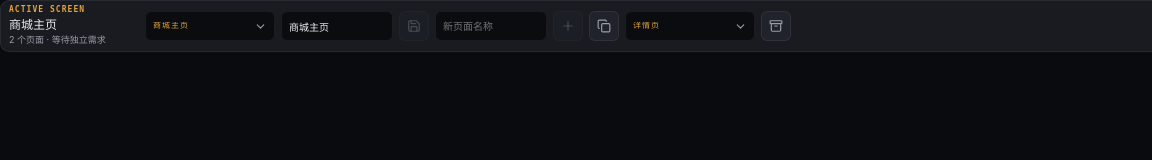
it: ScreenManager（Screen 隔离） › 失败路径：页面操作失败时在自己的错误槽展示，不影响全局横幅
Type "详情页" into the field with placeholder "新页面名称" at point(491, 26), box [435,11,547,41]
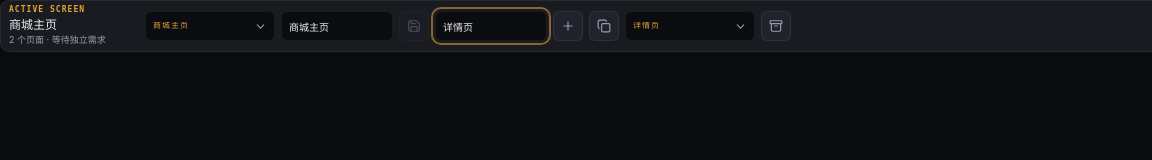
Click the button with test id "screen-manager-create" at point(568, 26), box [553,11,583,41]
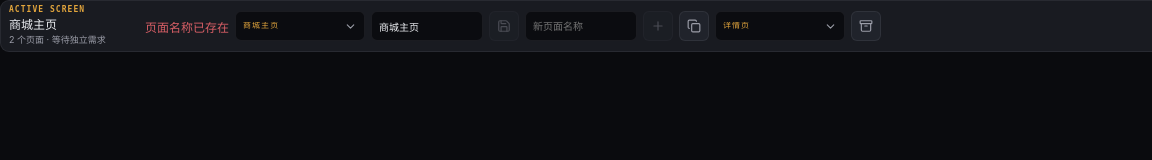
expect the message with test id "screen-manager-error" reads "页面名称已存在": met, box [145,20,229,34]
